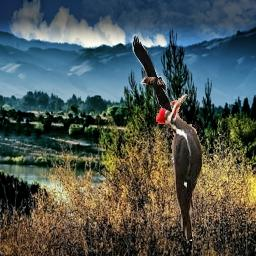Crow: (132, 35, 173, 114)
Woodpecker: (154, 91, 202, 241)
